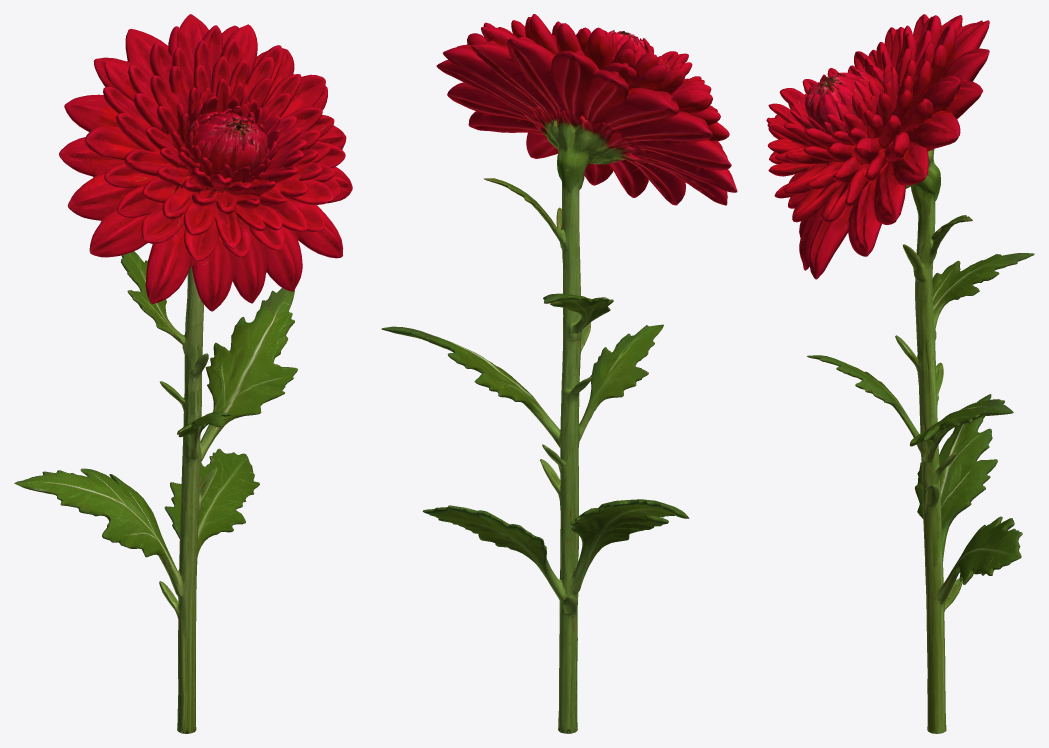
Rendered from redChrysanthemums.glb.
3 renders of one model, left to right at view 1: azimuth 30°, elevation 25°; view 2: azimuth 150°, elevation 25°; view 3: azimuth 270°, elevation 25°, orthographic.
Size of the model in its own units: 0.8694 by 2 by 0.6909.
Materials: 1 (1 with a texture image).
